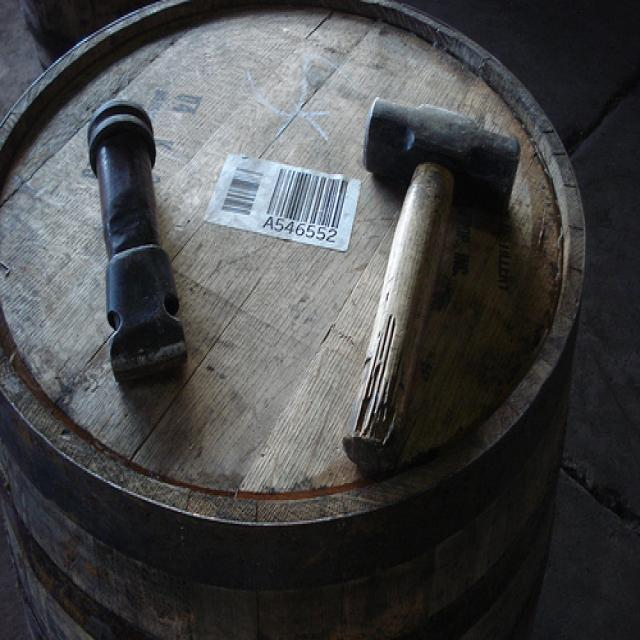hammer: (313, 42, 557, 466)
